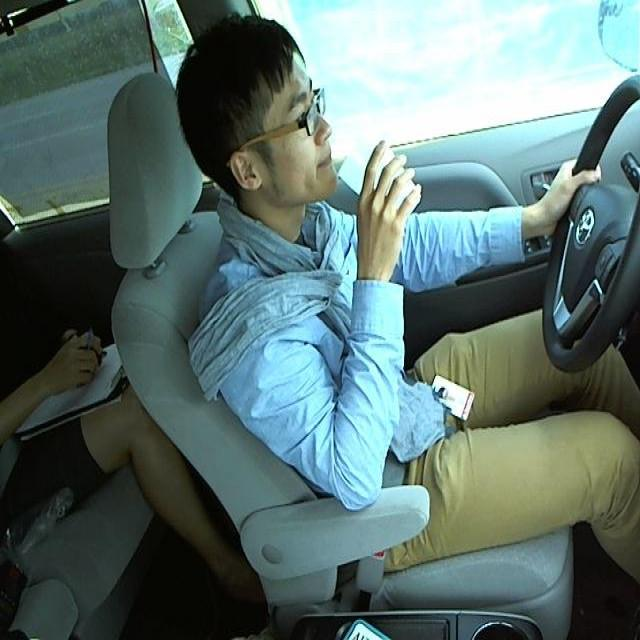drinking: (338, 124, 422, 219)
